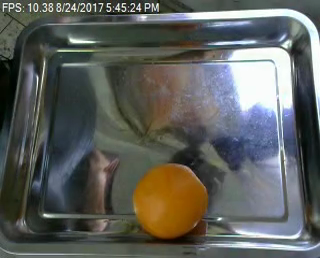Orange: (130, 163, 207, 237)
